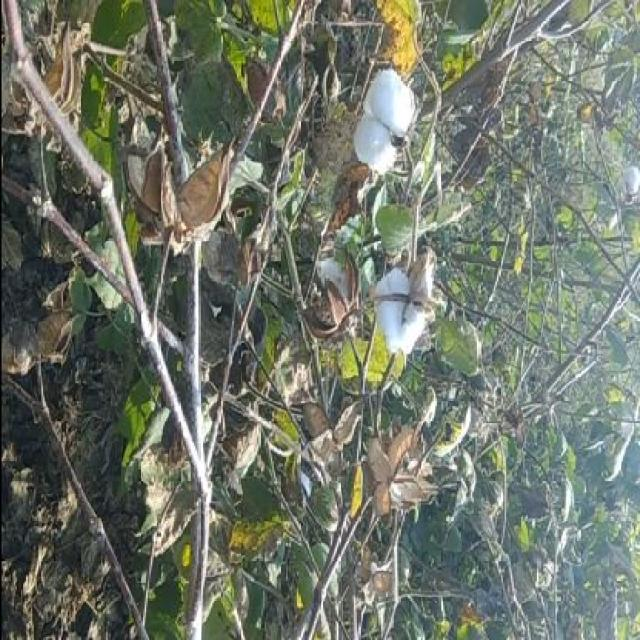cotton_ready: (318, 41, 429, 214), (345, 239, 441, 387)
